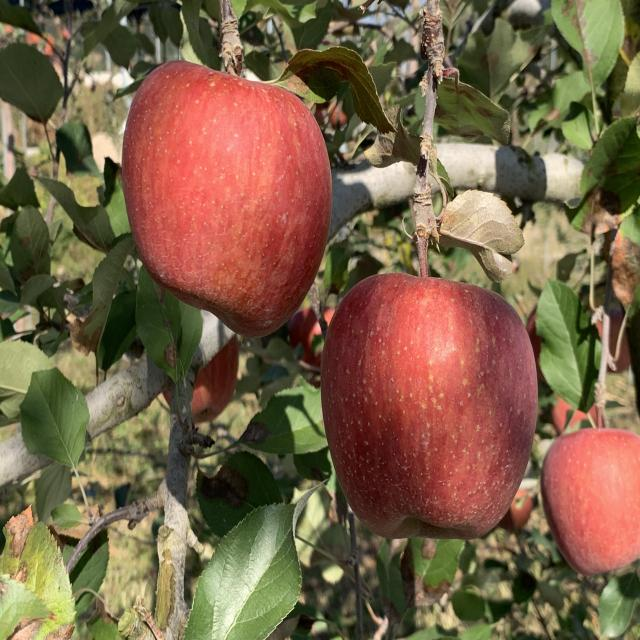fresh: (317, 271, 547, 545), (120, 54, 336, 345)
